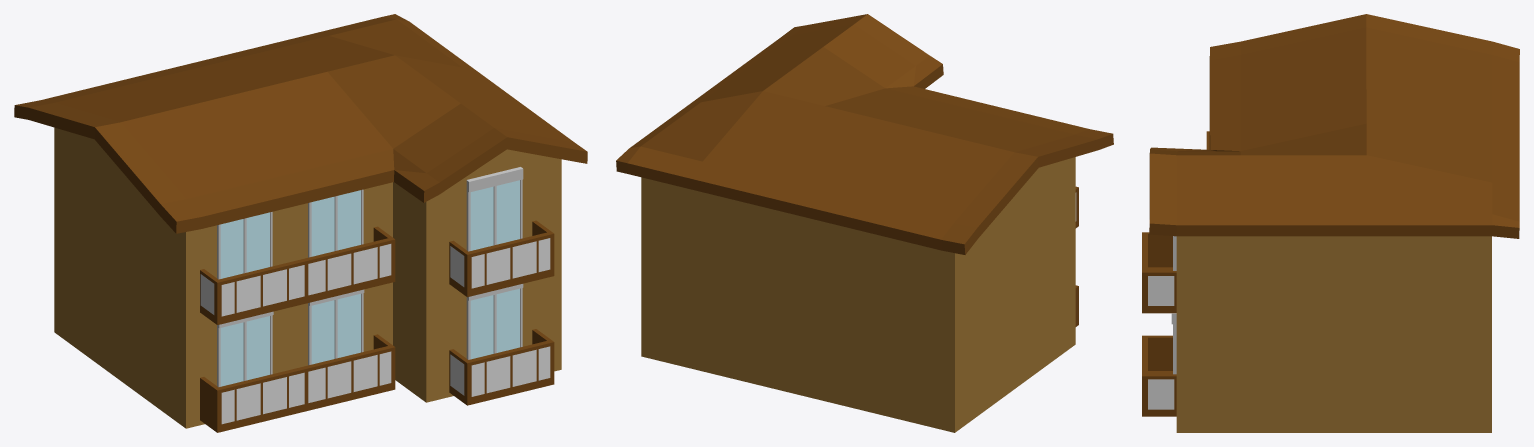
The model's file is ApartmentBuilding.fbx.
3 renders of one model, left to right at view 1: azimuth 30°, elevation 25°; view 2: azimuth 150°, elevation 25°; view 3: azimuth 270°, elevation 25°, orthographic. The views are drawn at different scales.
Parts seen in each view (by area): view 1: Cube; view 2: Cube; view 3: Cube.
Boxes of the visible parts, bbox=[...] form: Cube: bbox=[14, 14, 587, 432]; Cube: bbox=[616, 14, 1113, 432]; Cube: bbox=[1142, 14, 1519, 432].
Size of the model in its own units: 10148 by 6598 by 9118.
